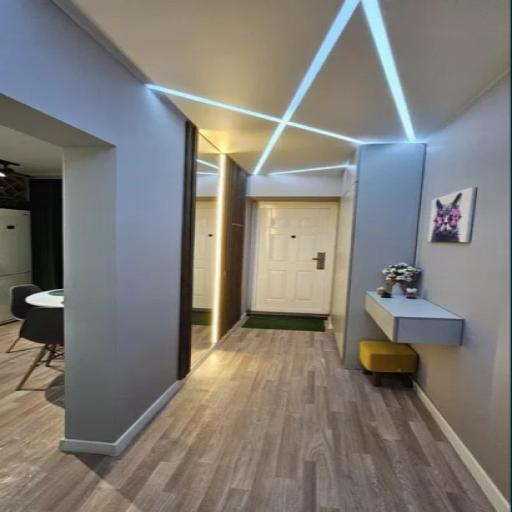bottle: (16, 307, 64, 390), (6, 284, 41, 353)
child: (252, 202, 337, 314)
phone: (25, 290, 64, 308)
